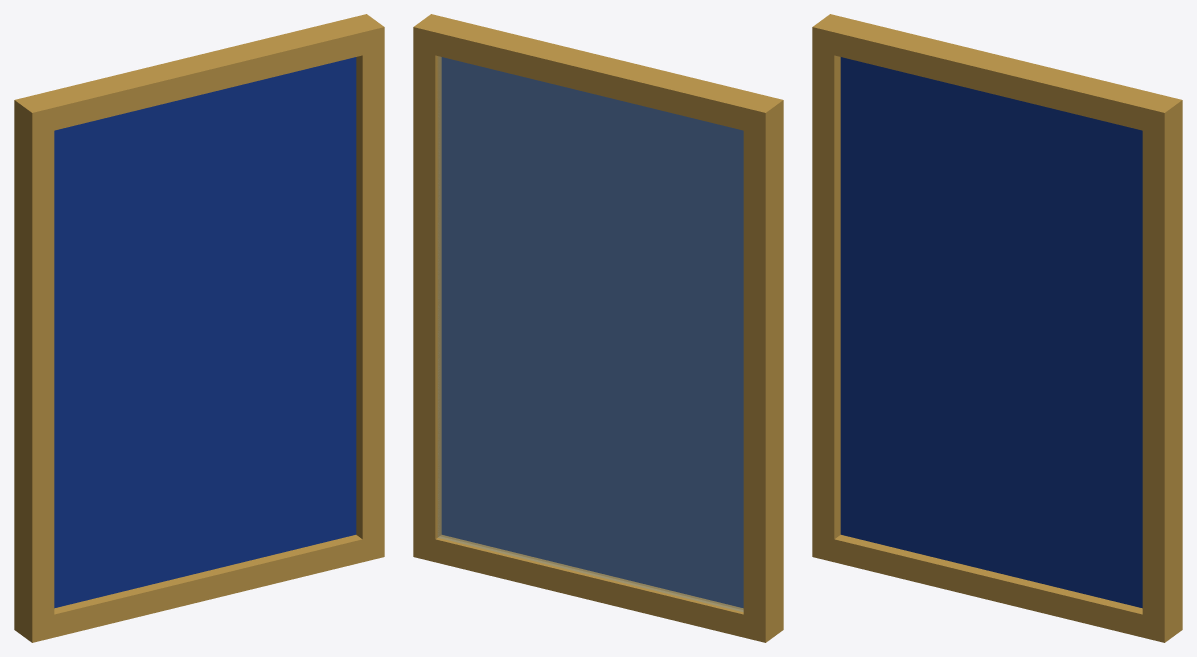
File: venue.foyer.poster_case.glb
3 renders of one model, left to right at view 1: azimuth 30°, elevation 25°; view 2: azimuth 150°, elevation 25°; view 3: azimuth 330°, elevation 25°, orthographic.
Parts seen in each view (by area): view 1: main__plastic_blue, main__brass; view 2: main__glass, main__plastic_blue, main__brass; view 3: main__plastic_blue, main__brass.
Part boxes in pixels (bbox=[...]): main__plastic_blue: bbox=[54, 57, 356, 608]; main__brass: bbox=[14, 14, 384, 642]; main__glass: bbox=[438, 56, 743, 611]; main__plastic_blue: bbox=[441, 57, 743, 607]; main__brass: bbox=[413, 14, 783, 642]; main__plastic_blue: bbox=[840, 57, 1142, 608]; main__brass: bbox=[812, 14, 1182, 642].
Size of the model in its own units: 0.8 by 1.15 by 0.07.
